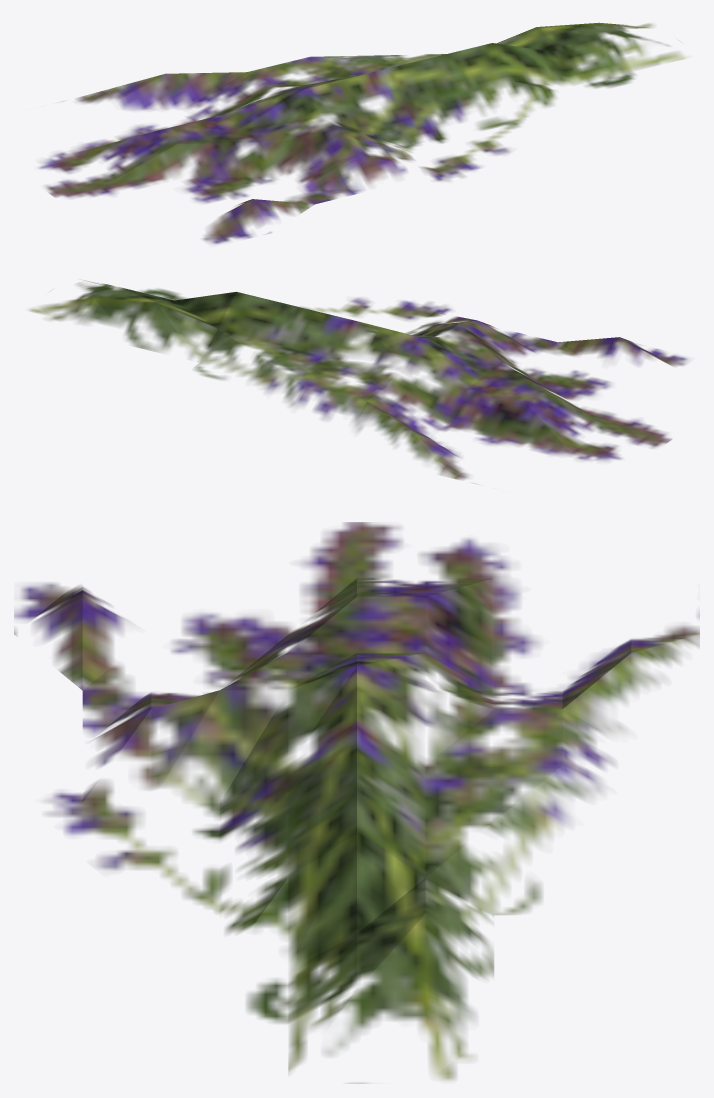
The model's file is herbs.glb.
3 views of the same model, one above another, from view 1: azimuth 30°, elevation 25°; view 2: azimuth 150°, elevation 25°; view 3: azimuth 270°, elevation 25° (orthographic). The views are drawn at different scales.
Visible parts, largest first — view 1: herbs; view 2: herbs; view 3: herbs.
Part boxes in pixels (x1,y1,x2,y2): herbs: [37, 22, 689, 245]; herbs: [28, 280, 689, 483]; herbs: [14, 522, 699, 1083].
Size of the model in its own units: 4.94 by 0.3361 by 2.55.
Materials: 1 (1 with a texture image).
